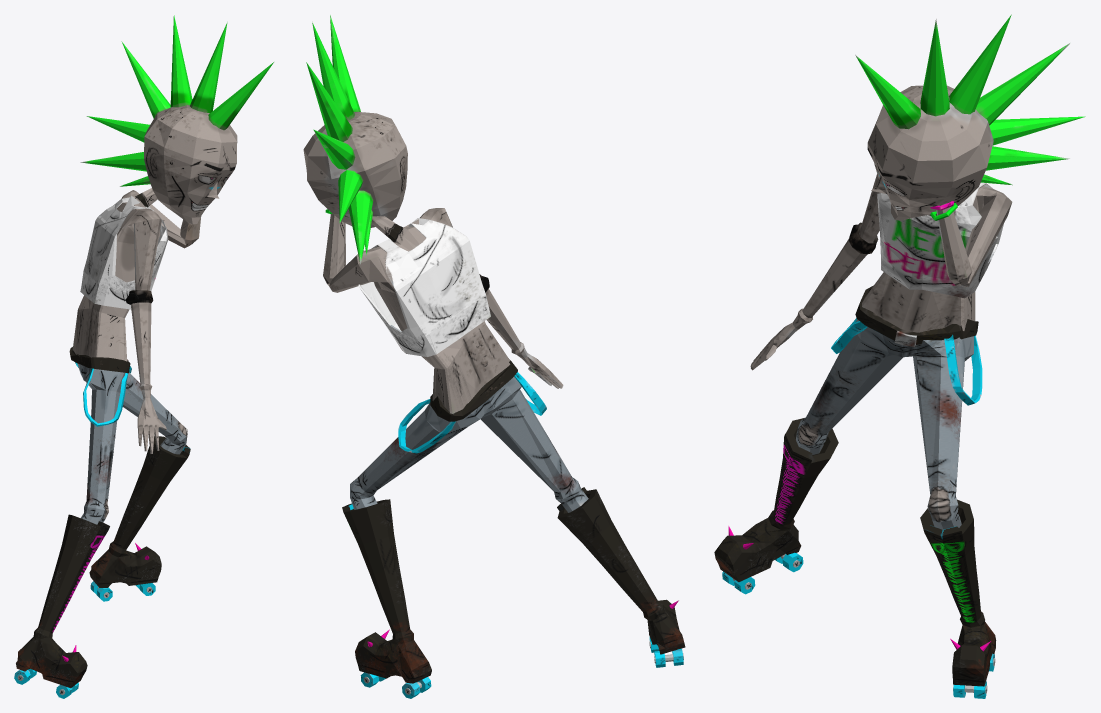
File: punkAnimation_000036.obj
3 renders of one model, left to right at view 1: azimuth 30°, elevation 25°; view 2: azimuth 150°, elevation 25°; view 3: azimuth 270°, elevation 25°, orthographic. The views are drawn at different scales.
Parts seen in each view (by area): view 1: Cube.004_Cube.003; view 2: Cube.004_Cube.003; view 3: Cube.004_Cube.003.
Boxes of the visible parts, x1,y1,x2,y2 form: Cube.004_Cube.003: (14, 15, 273, 698); Cube.004_Cube.003: (303, 15, 685, 698); Cube.004_Cube.003: (714, 14, 1085, 698).
Bounding box in the file's own units: 3.59 × 6.71 × 3.13.
